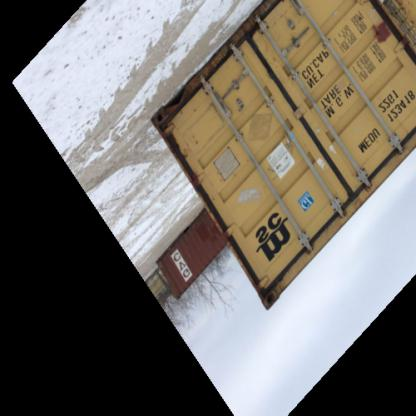Damage: (146, 116, 198, 166), (204, 38, 247, 92), (254, 268, 286, 314), (362, 14, 398, 49)
